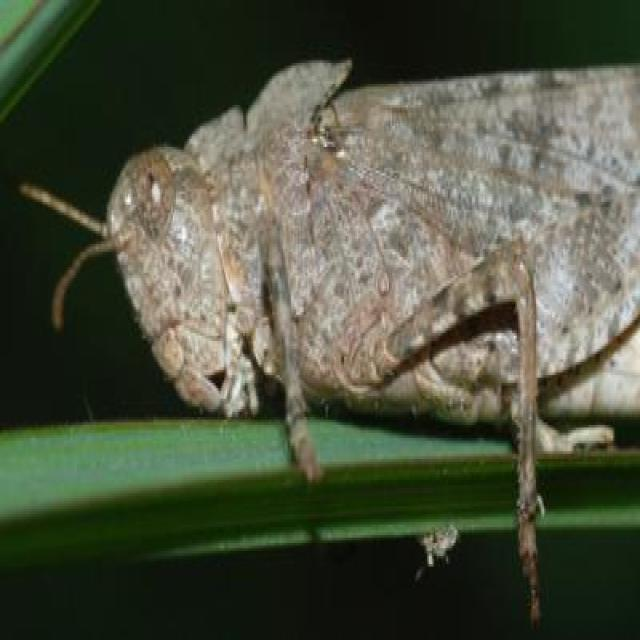antennae: (50, 234, 121, 326), (23, 185, 110, 239)
body: (117, 89, 640, 438)
insect: (21, 63, 638, 640)
legs: (351, 243, 543, 616), (259, 218, 319, 480)
mouthpart: (165, 331, 245, 415)
wings: (313, 87, 640, 274)
